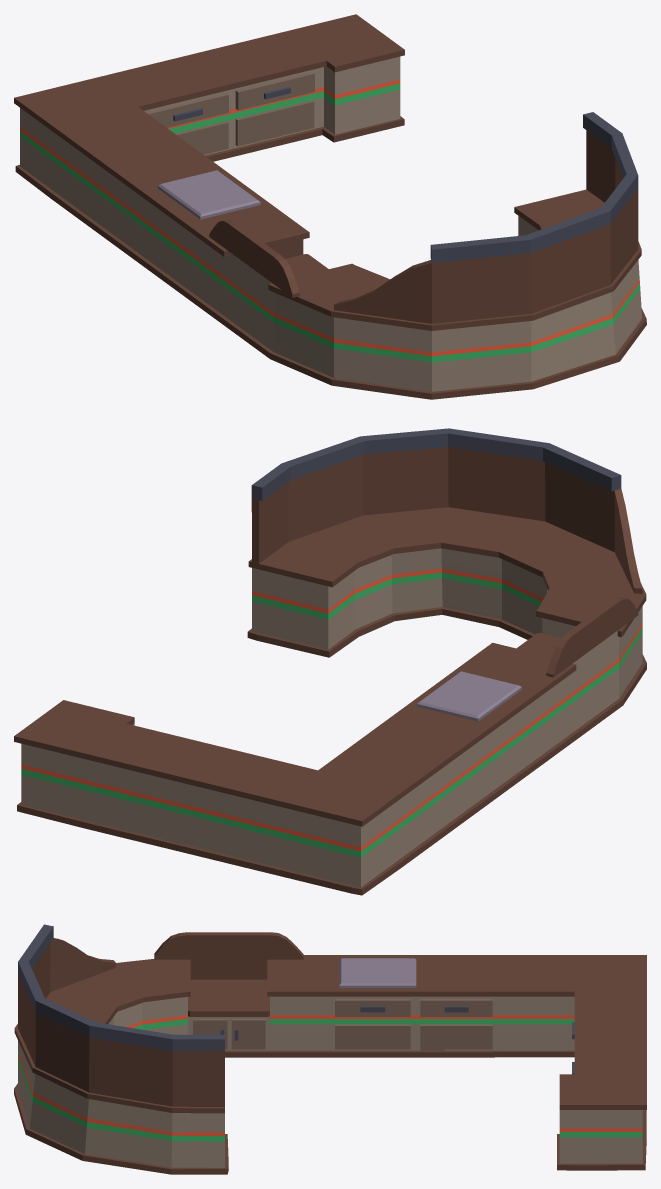
The model's file is COUNTER revised.fbx.
The picture shows the model from 3 angles, top to bottom: view 1: azimuth 30°, elevation 25°; view 2: azimuth 150°, elevation 25°; view 3: azimuth 270°, elevation 25°; orthographic projection. The views are drawn at different scales.
Visible parts, largest first — view 1: new counter; view 2: new counter; view 3: new counter.
Part boxes in pixels (left/top/right/bottom): new counter: left=14, top=14, right=646, bottom=399; new counter: left=14, top=428, right=646, bottom=895; new counter: left=14, top=924, right=646, bottom=1174.
Size of the model in its own units: 10.65 by 18.72 by 4.38.
